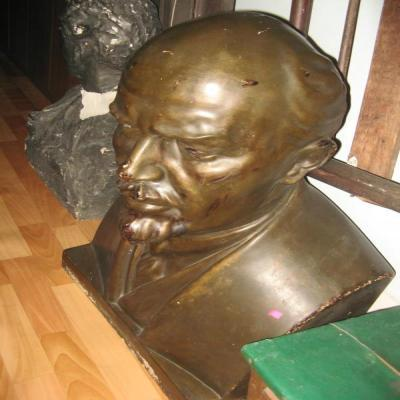sculpture: (67, 12, 395, 400)
